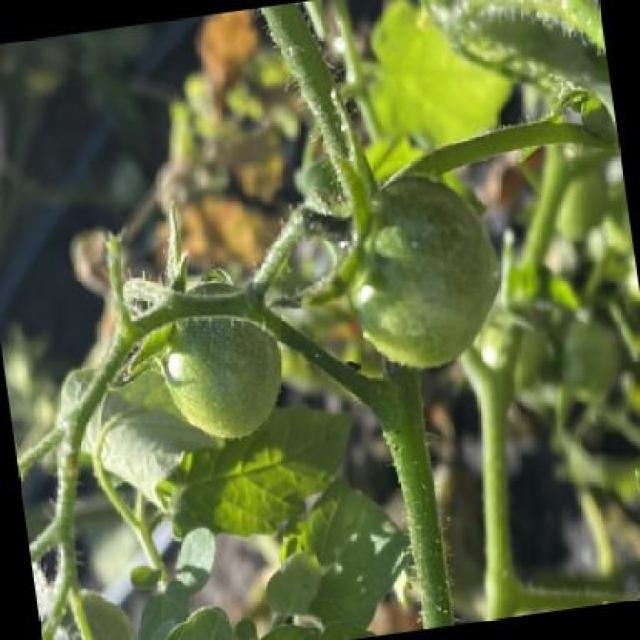unripe tomato: (327, 161, 513, 381), (146, 268, 292, 447)
